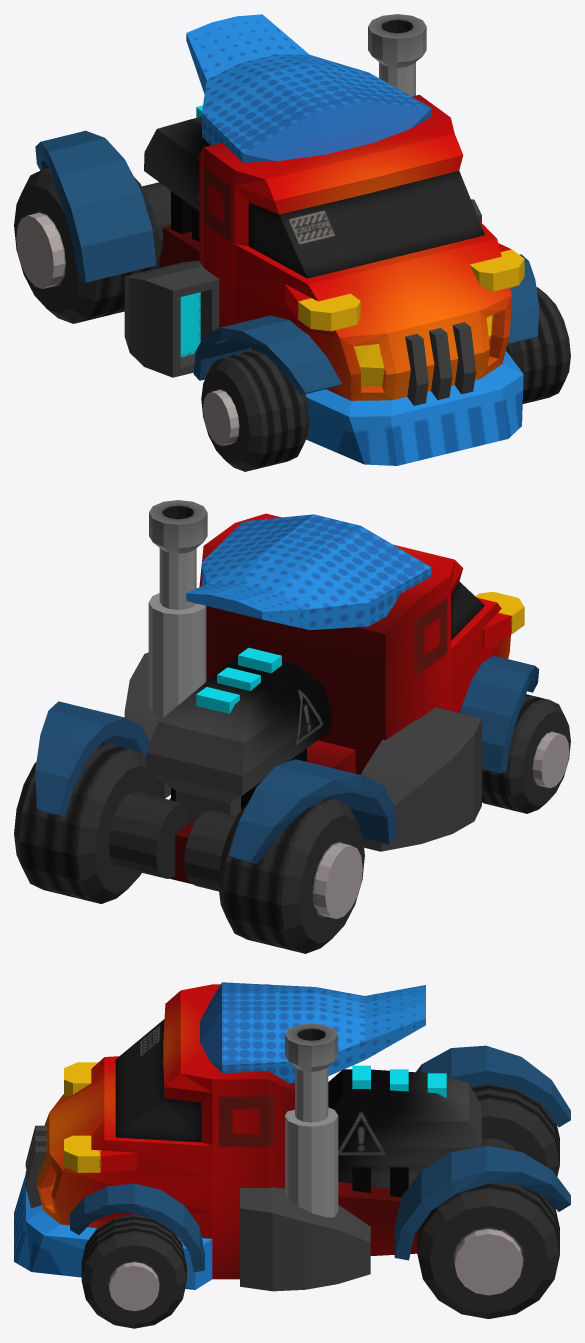
Rendered from Car-3.fbx.
3 renders of one model, top to bottom at view 1: azimuth 30°, elevation 25°; view 2: azimuth 150°, elevation 25°; view 3: azimuth 270°, elevation 25°, orthographic. The views are drawn at different scales.
Parts seen in each view (by area): view 1: Cube.163, Cube.168, Cylinder.196, Cylinder.194, Cylinder.195, Cube.164, Cylinder.193, Cylinder.078, Cube.165, Cylinder.192, Cube.171, Cylinder.079 (+5 smaller); view 2: Cube.163, Cube.168, Cylinder.194, Cylinder.190, Cube.165, Cube.164, Cylinder.192, Cylinder.196, Cylinder.195, Cylinder.191, Cylinder.193, Cube.167 (+1 smaller); view 3: Cube.163, Cylinder.190, Cube.168, Cube.165, Cube.164, Cylinder.078, Cylinder.192, Cylinder.191, Cylinder.194, Cylinder.196, Cylinder.079, Cube.170 (+4 smaller).
Part boxes in pixels (left/top/right/bottom): Cube.163: left=159, top=94, right=523, bottom=465; Cube.168: left=186, top=14, right=431, bottom=162; Cylinder.196: left=35, top=130, right=156, bottom=282; Cylinder.194: left=14, top=168, right=170, bottom=323; Cylinder.195: left=201, top=349, right=309, bottom=471; Cube.164: left=124, top=199, right=481, bottom=377; Cylinder.193: left=193, top=315, right=341, bottom=395; Cylinder.078: left=506, top=287, right=570, bottom=403; Cube.165: left=144, top=116, right=210, bottom=210; Cylinder.192: left=368, top=14, right=426, bottom=96; Cube.171: left=285, top=284, right=360, bottom=331; Cylinder.079: left=507, top=254, right=539, bottom=344; Cube.163: left=169, top=513, right=510, bottom=883; Cube.168: left=186, top=514, right=431, bottom=629; Cylinder.194: left=184, top=797, right=364, bottom=953; Cylinder.190: left=14, top=742, right=187, bottom=903; Cube.165: left=145, top=656, right=331, bottom=823; Cube.164: left=124, top=652, right=481, bottom=851; Cylinder.192: left=148, top=500, right=207, bottom=718; Cylinder.196: left=229, top=759, right=397, bottom=863; Cylinder.195: left=482, top=694, right=570, bottom=813; Cylinder.191: left=35, top=701, right=149, bottom=816; Cylinder.193: left=460, top=655, right=539, bottom=773; Cube.167: left=196, top=647, right=281, bottom=713; Cube.163: left=14, top=984, right=417, bottom=1289; Cylinder.190: left=417, top=1184, right=559, bottom=1318; Cube.168: left=200, top=982, right=425, bottom=1083; Cube.165: left=328, top=1069, right=482, bottom=1188; Cube.164: left=240, top=1187, right=370, bottom=1291; Cylinder.078: left=81, top=1214, right=186, bottom=1328; Cylinder.192: left=285, top=1023, right=338, bottom=1217; Cylinder.191: left=394, top=1146, right=570, bottom=1260; Cylinder.194: left=471, top=1084, right=559, bottom=1176; Cylinder.196: left=416, top=1045, right=570, bottom=1127; Cylinder.079: left=70, top=1183, right=204, bottom=1272; Cube.170: left=64, top=1135, right=136, bottom=1172.
Bounding box in the file's own units: 288 × 248 × 455.
